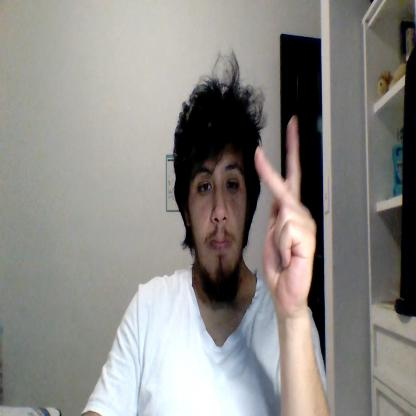P: (255, 116, 316, 311)
